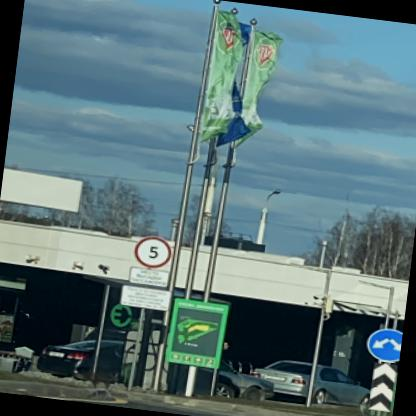speedlimit: (130, 233, 171, 268)
